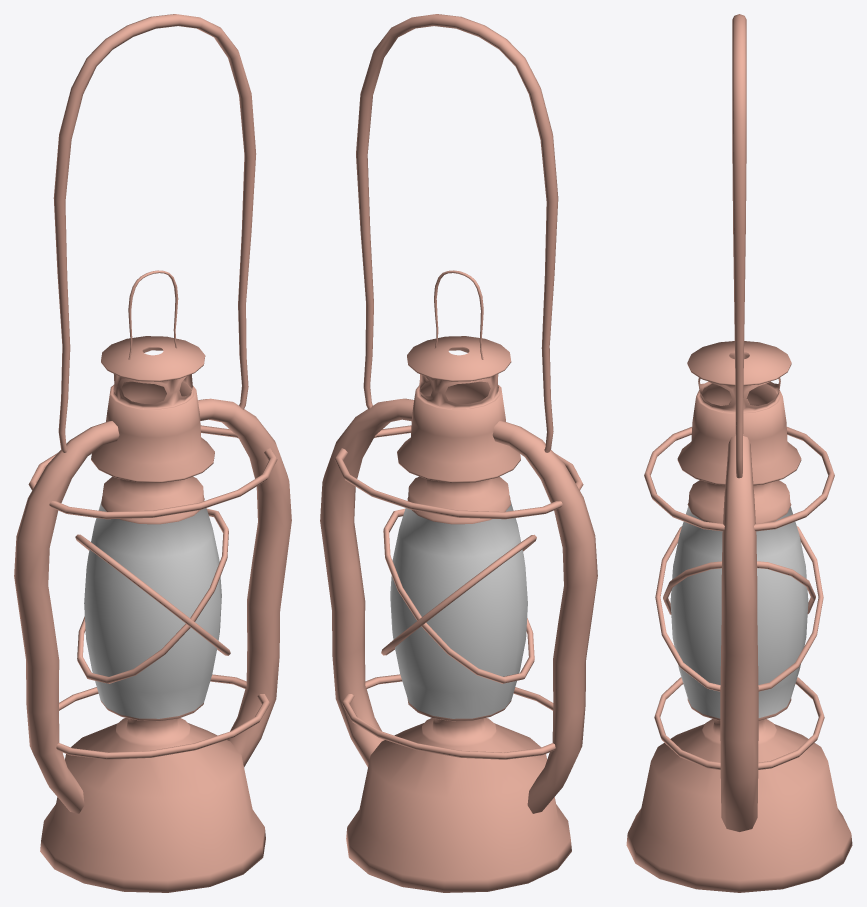
The model's file is textmax.fbx.
3 renders of one model, left to right at view 1: azimuth 30°, elevation 25°; view 2: azimuth 150°, elevation 25°; view 3: azimuth 270°, elevation 25°, orthographic.
Visible parts, largest first — view 1: Circle.004; view 2: Circle.004; view 3: Circle.004.
Part boxes in pixels (x1,y1,x2,y2): Circle.004: (14, 14, 291, 892); Circle.004: (320, 14, 597, 892); Circle.004: (626, 14, 852, 892).
Bounding box in the file's own units: 16.33 × 47.16 × 11.78.
